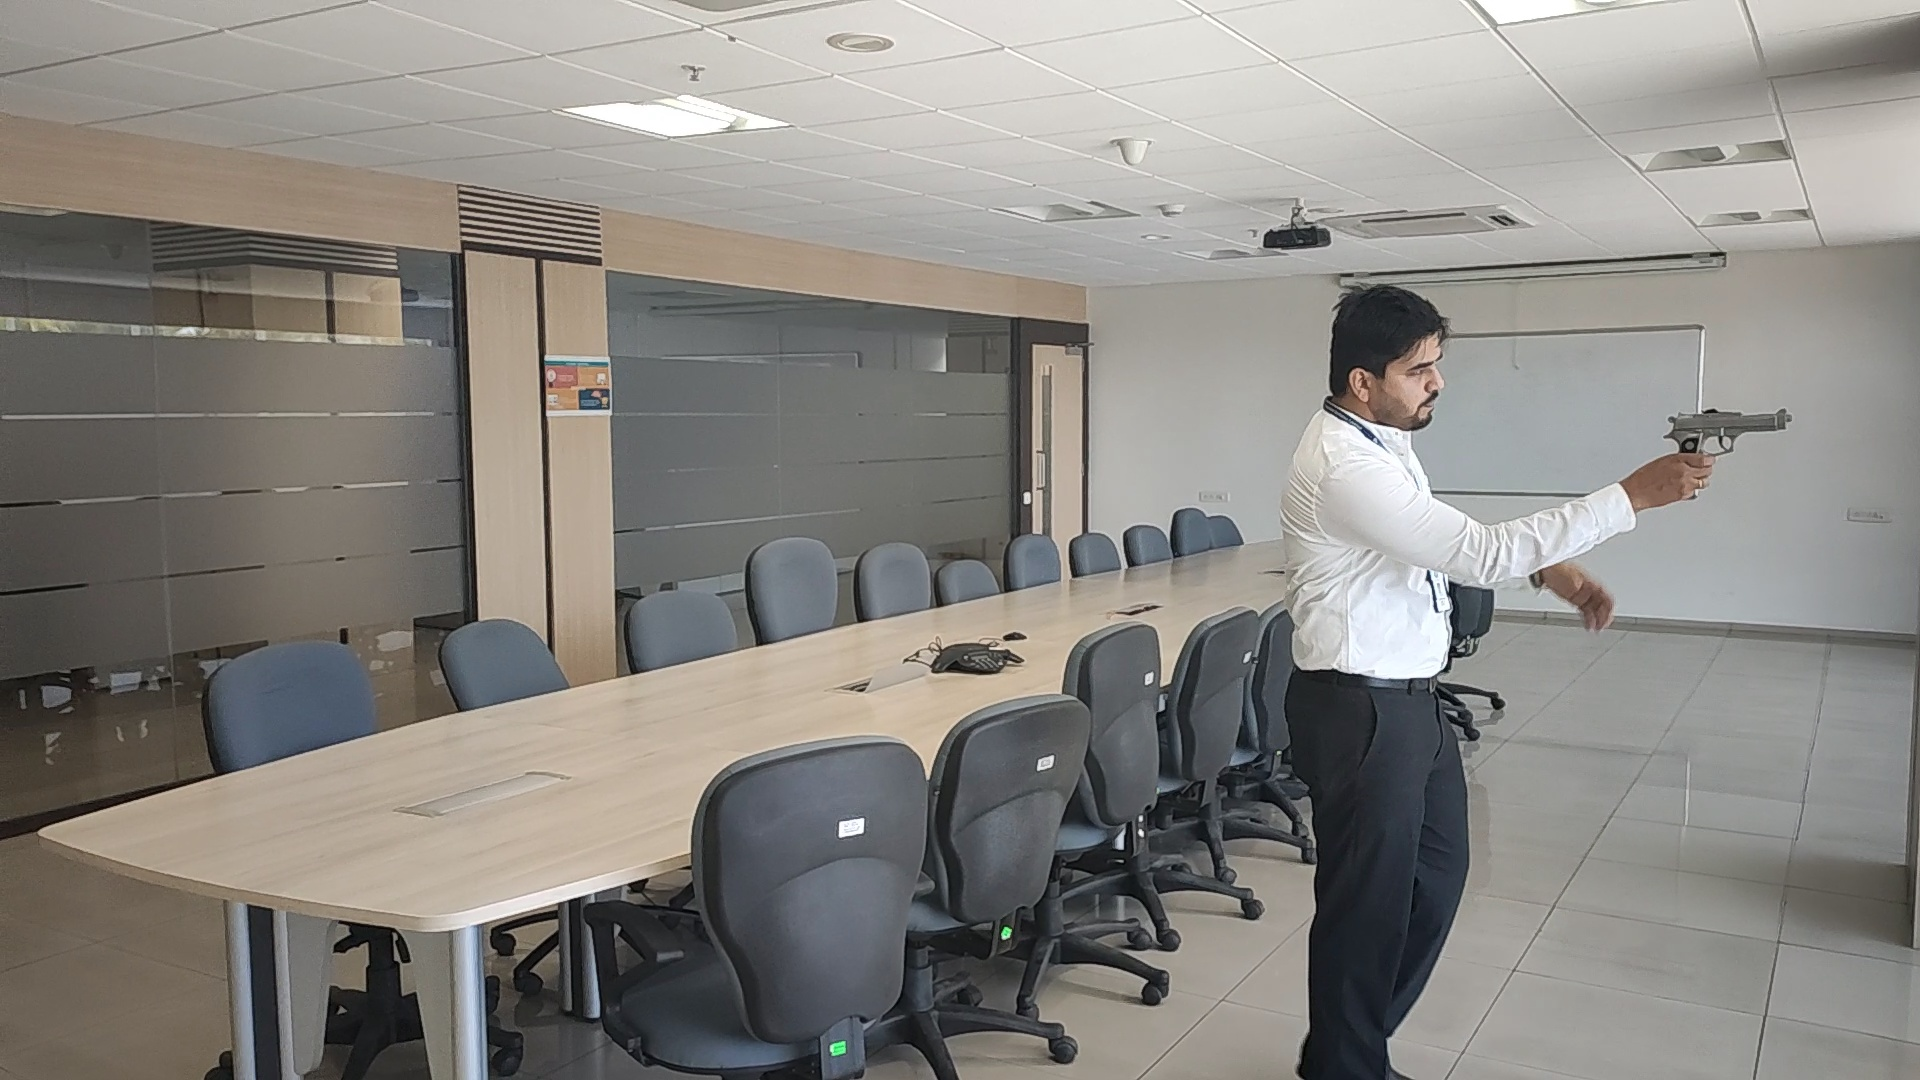gun: (1662, 407, 1793, 454)
